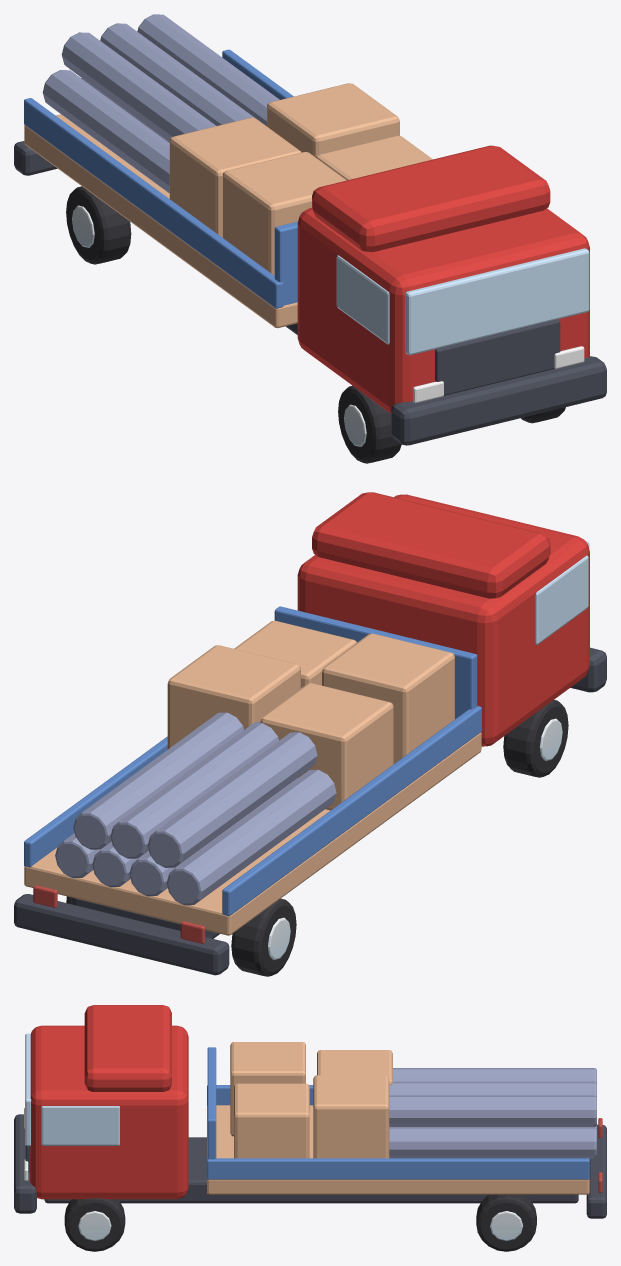
The model's file is toy-flatbed.glb.
3 views of the same model, one above another, from view 1: azimuth 30°, elevation 25°; view 2: azimuth 150°, elevation 25°; view 3: azimuth 270°, elevation 25° (orthographic). The views are drawn at different scales.
Parts seen in each view (by area): view 1: body, wheel-back-right.001, wheel-front-right.001; view 2: body, wheel-back-right.001, wheel-front-right.001; view 3: body, wheel-back-left.001, wheel-front-left.001.
Part boxes in pixels (left/top/right/bottom): body: left=14, top=14, right=606, bottom=445; wheel-back-right.001: left=66, top=186, right=131, bottom=264; wheel-front-right.001: left=338, top=385, right=401, bottom=463; body: left=14, top=492, right=606, bottom=975; wheel-back-right.001: left=231, top=898, right=296, bottom=976; wheel-front-right.001: left=503, top=700, right=568, bottom=777; body: left=14, top=1005, right=606, bottom=1218; wheel-back-left.001: left=476, top=1194, right=536, bottom=1251; wheel-front-left.001: left=64, top=1198, right=125, bottom=1251.
Size of the model in its own units: 1.79 by 1.97 by 5.86.
Materials: 1 (1 with a texture image).
